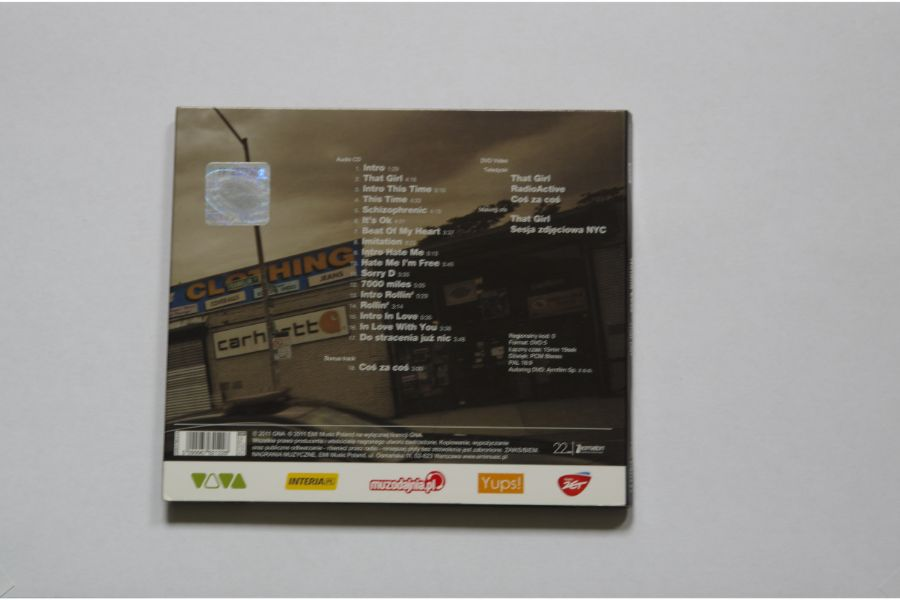album: (160, 102, 634, 517)
